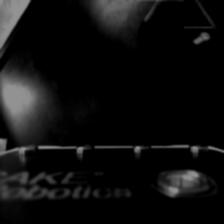Door Handle: (136, 0, 184, 39)
Lock: (184, 25, 211, 53)
